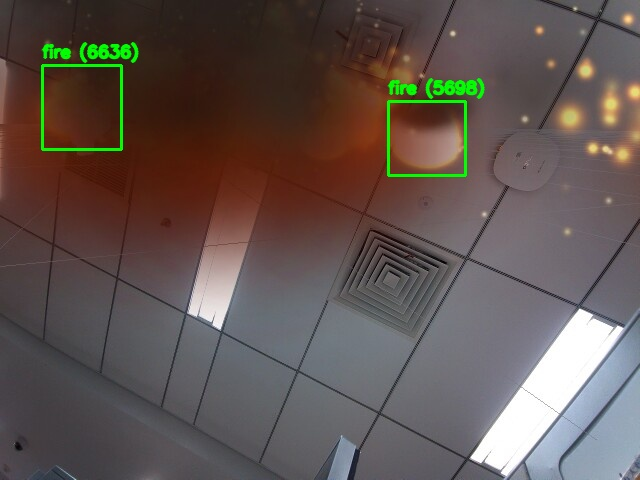fire: (42, 65, 121, 149), (388, 101, 465, 175)
